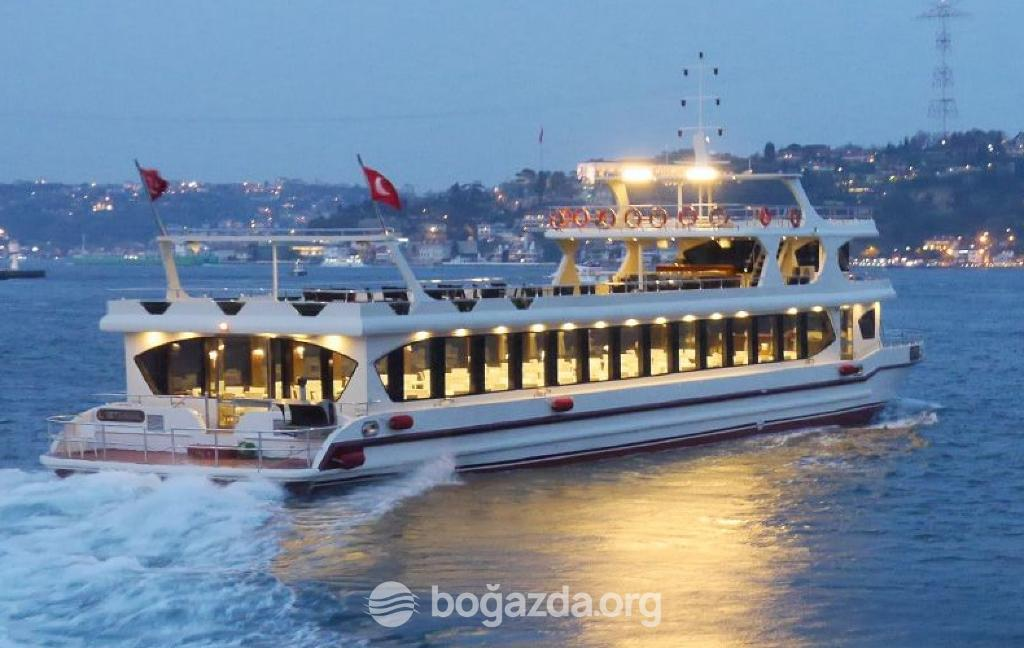PassengerShip: (28, 93, 930, 501)
